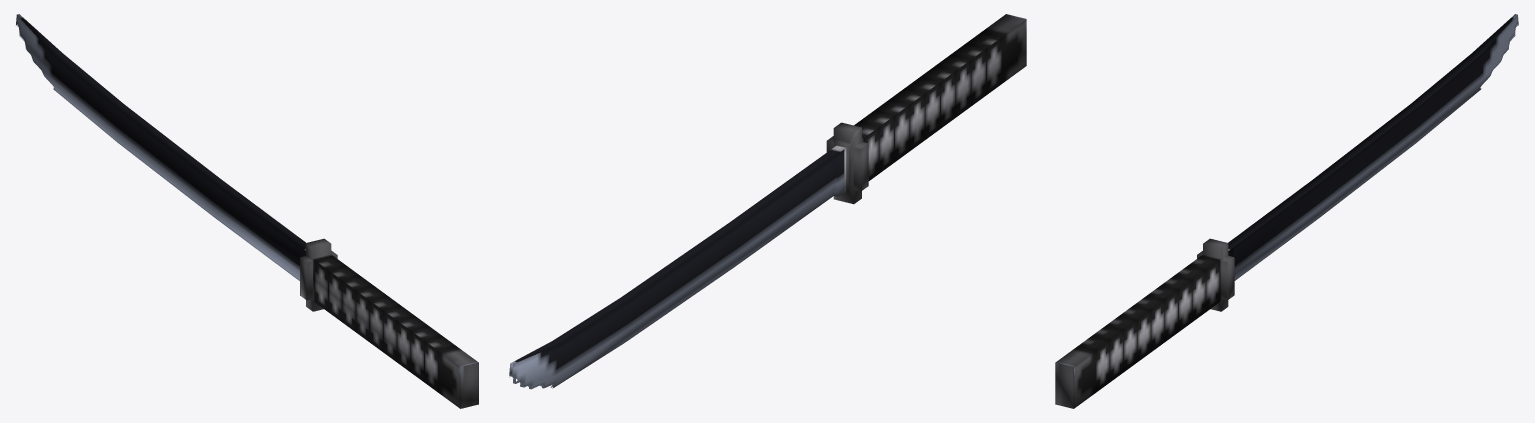
The model's file is katana.obj.
The picture shows the model from 3 angles, left to right: view 1: azimuth 30°, elevation 25°; view 2: azimuth 150°, elevation 25°; view 3: azimuth 330°, elevation 25°; orthographic projection. The views are drawn at different scales.
Parts seen in each view (by area): view 1: katana_katana.001; view 2: katana_katana.001; view 3: katana_katana.001.
Part boxes in pixels (x1,y1,x2,y2): katana_katana.001: (16,14,478,408); katana_katana.001: (509,14,1026,389); katana_katana.001: (1055,14,1518,408).
Bounding box in the file's own units: 0.0981 × 0.2226 × 2.53.
